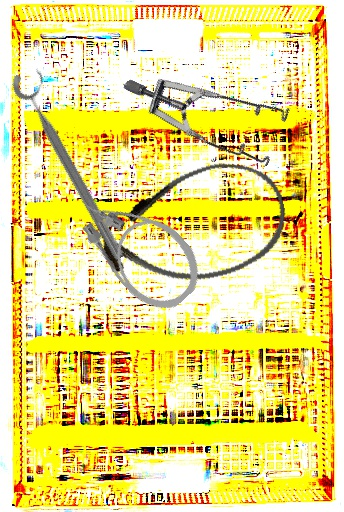Cannula: (88, 149, 297, 302), (63, 168, 214, 323)
Fixation Ring: (7, 63, 141, 264)
Speculum: (120, 12, 311, 207)
